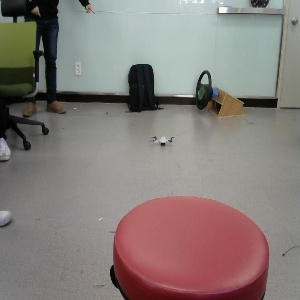Drone: (150, 131, 172, 148)
